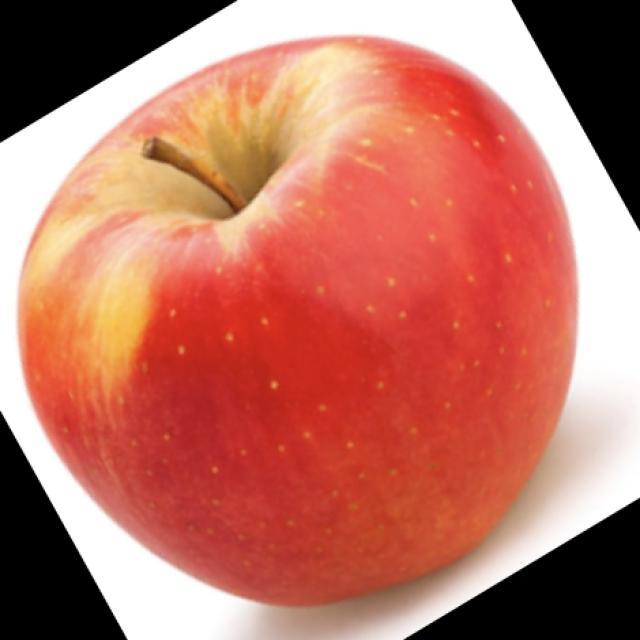Apple: (16, 33, 580, 607)
